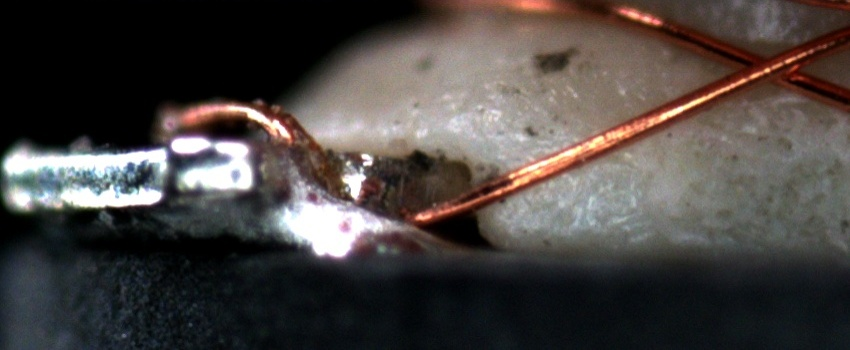CL: (717, 41, 822, 94)
TE: (161, 94, 331, 155)
